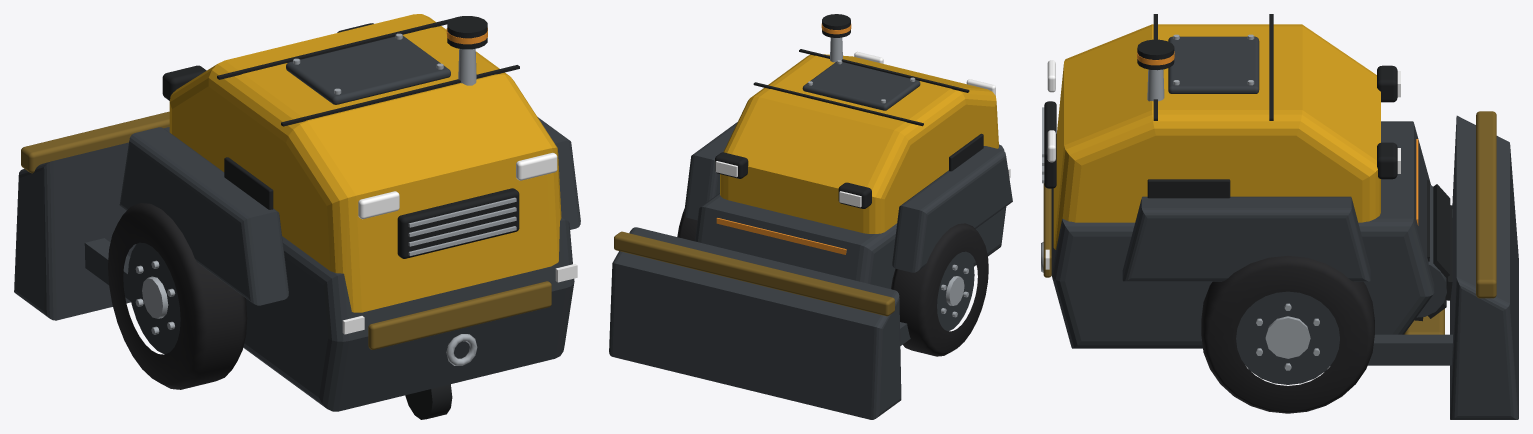
The model's file is Machine_dozer_T1.glb.
The picture shows the model from 3 angles, left to right: view 1: azimuth 30°, elevation 25°; view 2: azimuth 150°, elevation 25°; view 3: azimuth 270°, elevation 25°; orthographic projection. The views are drawn at different scales.
Parts seen in each view (by area): view 1: Tier1_Parts_MAT_Player_Gunmetal_9, Body_Shell_0, Axle_Front_MAT_tread_6, Tier1_Parts_MAT_darkTrim_10, Tier1_Parts_MAT_Player_Hazard_12, Tier1_Parts_MAT_steel_11, Axle_Front_MAT_Player_Gunmetal_7, Tier1_Parts_MAT_lamps_13, Axle_Front_MAT_steel_8, Lidar_Puck_4; view 2: Tier1_Parts_MAT_Player_Gunmetal_9, Body_Shell_0, Axle_Front_MAT_tread_6, Tier1_Parts_MAT_Player_Hazard_12, Tier1_Parts_MAT_darkTrim_10, Axle_Front_MAT_Player_Gunmetal_7, Tier1_Parts_MAT_lamps_13, Intake_GlowStrip_3, Axle_Front_MAT_steel_8, Lidar_Puck_4, Tier1_Parts_MAT_steel_11; view 3: Tier1_Parts_MAT_Player_Gunmetal_9, Body_Shell_0, Axle_Front_MAT_tread_6, Axle_Front_MAT_Player_Gunmetal_7, Tier1_Parts_MAT_Player_Hazard_12, Tier1_Parts_MAT_darkTrim_10, Intake_Roller_MAT_darkTrim_2, Axle_Front_MAT_steel_8, Roller_Core_1, Tier1_Parts_MAT_steel_11, Tier1_Parts_MAT_lamps_13, Lidar_Puck_4.
Boxes of the visible parts, x1,y1,x2,y2 form: Tier1_Parts_MAT_Player_Gunmetal_9: [14, 36, 580, 411]; Body_Shell_0: [169, 14, 561, 312]; Axle_Front_MAT_tread_6: [108, 203, 247, 389]; Tier1_Parts_MAT_darkTrim_10: [162, 18, 519, 419]; Tier1_Parts_MAT_Player_Hazard_12: [21, 111, 551, 349]; Tier1_Parts_MAT_steel_11: [293, 33, 516, 365]; Axle_Front_MAT_Player_Gunmetal_7: [128, 242, 180, 354]; Tier1_Parts_MAT_lamps_13: [342, 152, 577, 334]; Axle_Front_MAT_steel_8: [135, 260, 175, 334]; Lidar_Puck_4: [447, 16, 487, 49]; Tier1_Parts_MAT_Player_Gunmetal_9: [609, 61, 1012, 419]; Body_Shell_0: [720, 54, 998, 233]; Axle_Front_MAT_tread_6: [677, 209, 988, 356]; Tier1_Parts_MAT_Player_Hazard_12: [614, 231, 894, 316]; Tier1_Parts_MAT_darkTrim_10: [715, 49, 983, 208]; Axle_Front_MAT_Player_Gunmetal_7: [937, 251, 974, 331]; Tier1_Parts_MAT_lamps_13: [715, 51, 1010, 207]; Intake_GlowStrip_3: [716, 218, 846, 254]; Axle_Front_MAT_steel_8: [941, 264, 968, 317]; Lidar_Puck_4: [822, 14, 850, 37]; Tier1_Parts_MAT_steel_11: [808, 37, 915, 103]; Tier1_Parts_MAT_Player_Gunmetal_9: [1051, 36, 1518, 419]; Body_Shell_0: [1053, 24, 1380, 249]; Axle_Front_MAT_tread_6: [1201, 255, 1374, 413]; Axle_Front_MAT_Player_Gunmetal_7: [1236, 291, 1339, 384]; Tier1_Parts_MAT_Player_Hazard_12: [1043, 111, 1496, 334]; Tier1_Parts_MAT_darkTrim_10: [1044, 14, 1397, 198]; Intake_Roller_MAT_darkTrim_2: [1415, 180, 1452, 321]; Axle_Front_MAT_steel_8: [1256, 303, 1319, 370]; Roller_Core_1: [1416, 185, 1446, 317]; Tier1_Parts_MAT_steel_11: [1041, 34, 1254, 272]; Tier1_Parts_MAT_lamps_13: [1045, 60, 1400, 269]; Lidar_Puck_4: [1137, 39, 1174, 70].
Size of the model in its own units: 0.98 by 0.86 by 1.16.
